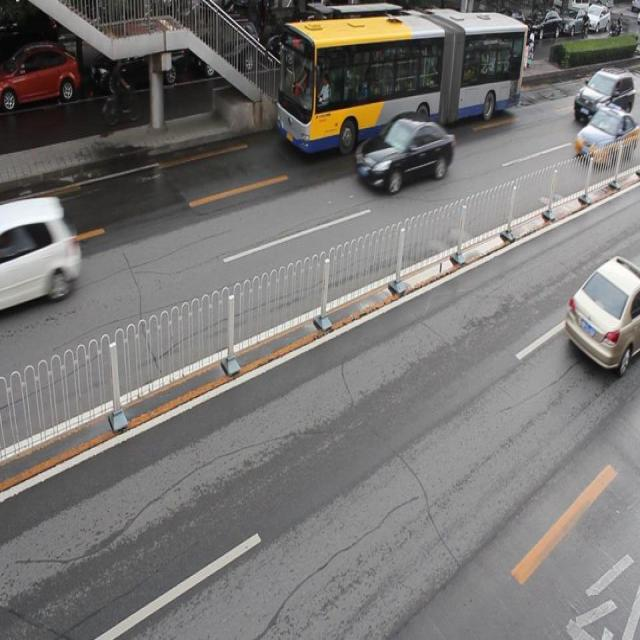car: (563, 255, 640, 372), (356, 110, 454, 196), (1, 201, 77, 310), (93, 34, 186, 95), (1, 46, 82, 112), (194, 15, 262, 77), (571, 104, 640, 164), (272, 15, 340, 67)
truck: (572, 66, 640, 127)
van: (278, 11, 526, 148)
